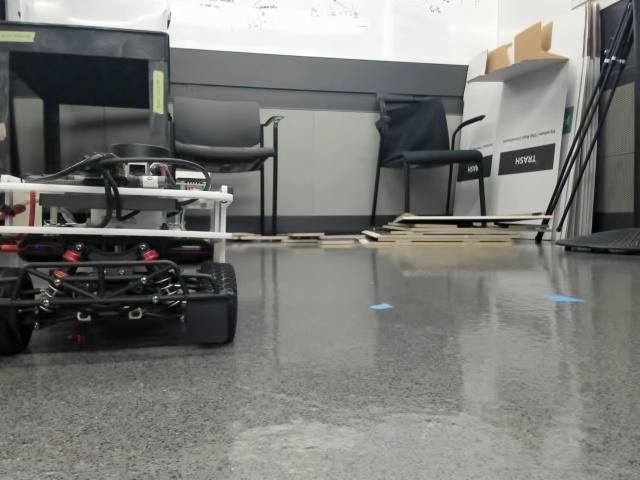Car: (1, 142, 237, 349)
